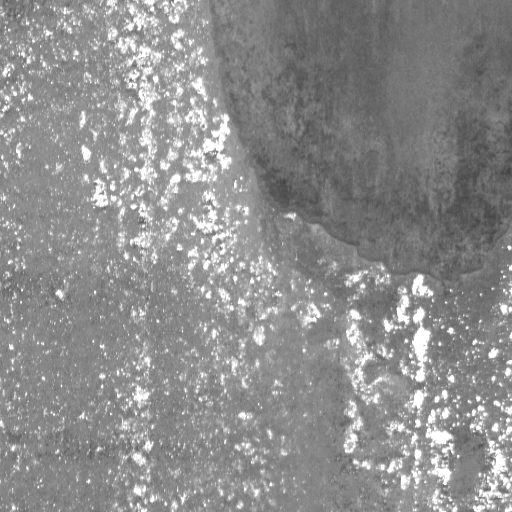aokeng: (210, 1, 510, 286)
